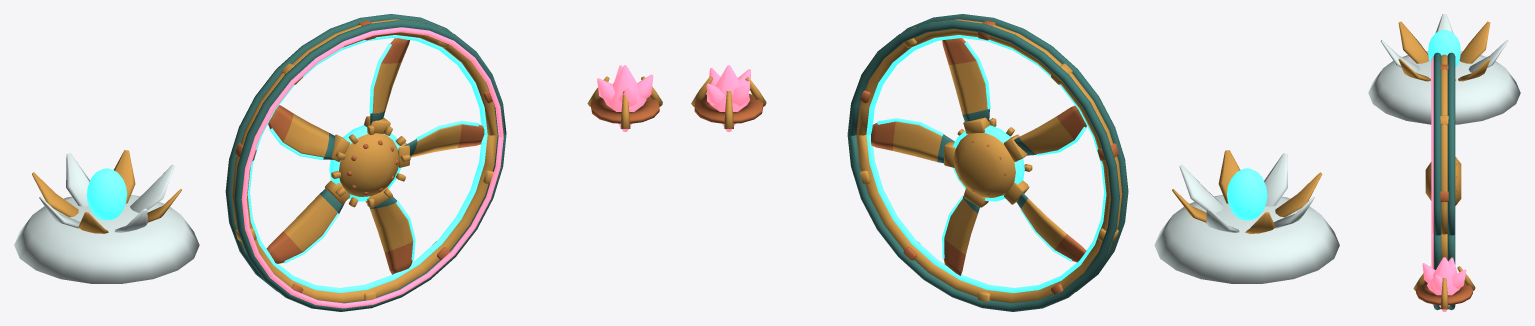
The model's file is core_reactor_props.glb.
3 renders of one model, left to right at view 1: azimuth 30°, elevation 25°; view 2: azimuth 150°, elevation 25°; view 3: azimuth 270°, elevation 25°, orthographic. The views are drawn at different scales.
Visible parts, largest first — view 1: turbine_rotor, seed_anchor_body, crystal_lock_body; view 2: turbine_rotor, seed_anchor_body, crystal_lock_body; view 3: seed_anchor_body, turbine_rotor, crystal_lock_body.
Boxes of the visible parts, x1,y1,x2,y2 form: turbine_rotor: (225,14,506,311); seed_anchor_body: (14,150,199,283); crystal_lock_body: (587,65,662,131); turbine_rotor: (847,14,1128,311); seed_anchor_body: (1154,150,1339,283); crystal_lock_body: (691,65,766,131); seed_anchor_body: (1368,14,1520,124); turbine_rotor: (1425,52,1461,310); crystal_lock_body: (1413,257,1475,311).
Size of the model in its own units: 12.24 by 5.24 by 3.1.
